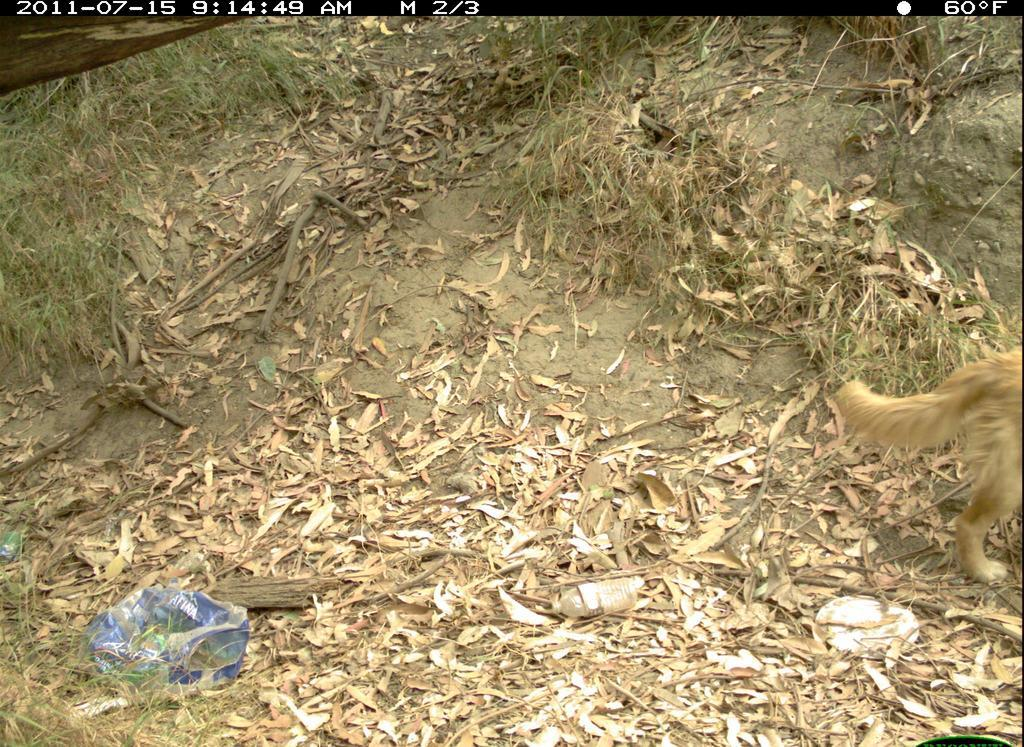dog: (830, 346, 1024, 588)
